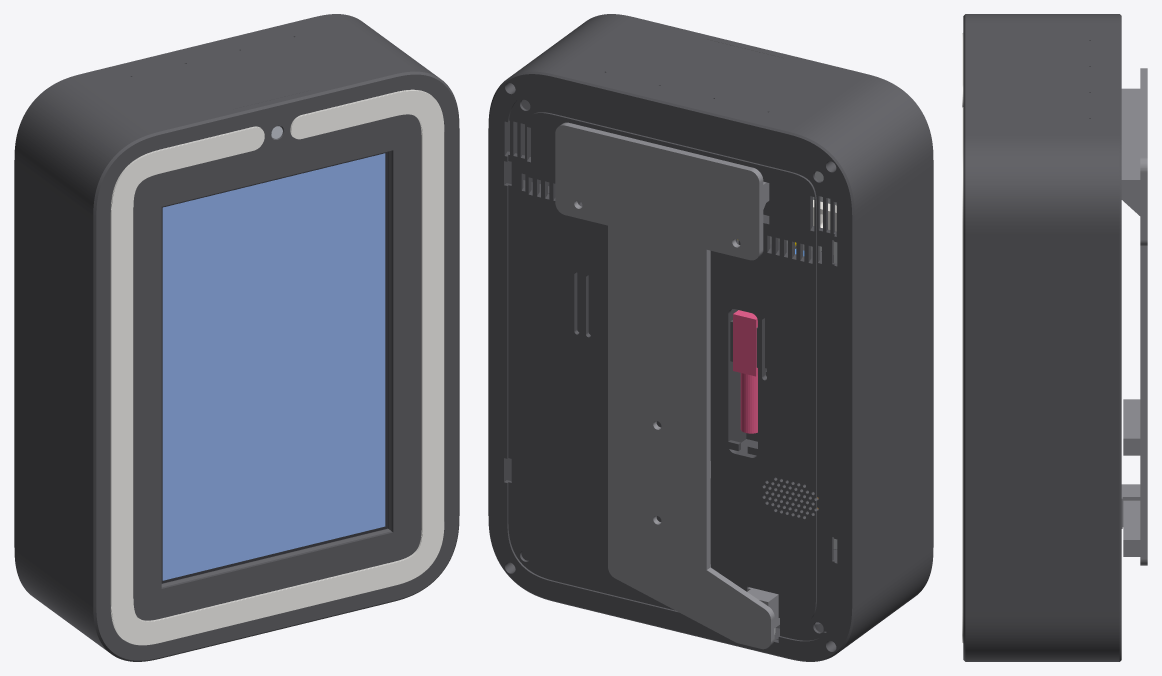
Rendered from halo-gen2-v3_3d.glb.
3 views of the same model, side by side, from view 1: azimuth 30°, elevation 25°; view 2: azimuth 150°, elevation 25°; view 3: azimuth 270°, elevation 25° (orthographic). The views are drawn at different scales.
Parts seen in each view (by area): view 1: skaerm_billede, front, skal, lysring, skaerm; view 2: skal, vaegbeslag, front, stik; view 3: skal, vaegbeslag, front, lysring.
Part boxes in pixels (x1=…): skaerm_billede: x1=162, y1=153, x2=385, y2=580; front: x1=88, y1=68, x2=459, y2=661; skal: x1=14, y1=14, x2=434, y2=648; lysring: x1=110, y1=89, x2=444, y2=645; skaerm: x1=161, y1=151, x2=387, y2=583; skal: x1=488, y1=17, x2=928, y2=661; vaegbeslag: x1=555, y1=122, x2=779, y2=649; front: x1=583, y1=14, x2=933, y2=597; stik: x1=733, y1=310, x2=757, y2=433; skal: x1=974, y1=14, x2=1121, y2=661; vaegbeslag: x1=1121, y1=68, x2=1147, y2=565; front: x1=963, y1=14, x2=974, y2=661; lysring: x1=962, y1=33, x2=963, y2=642.
Size of the model in its own units: 222 by 306 by 99.5.
